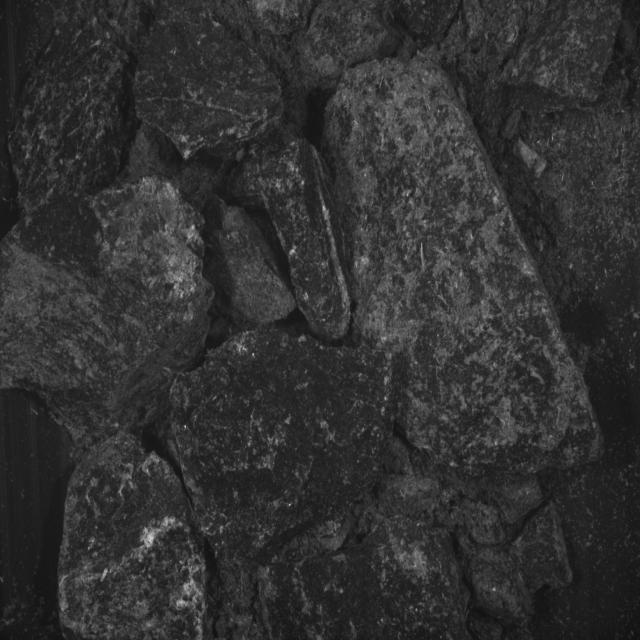Stones: (326, 58, 604, 474), (1, 178, 214, 447), (171, 328, 395, 564), (10, 1, 157, 215), (60, 433, 207, 640), (260, 517, 470, 640), (229, 131, 351, 341), (135, 4, 284, 161), (205, 196, 297, 327), (505, 1, 622, 102), (301, 1, 400, 93), (511, 504, 574, 594), (470, 548, 532, 626), (490, 476, 544, 526)
